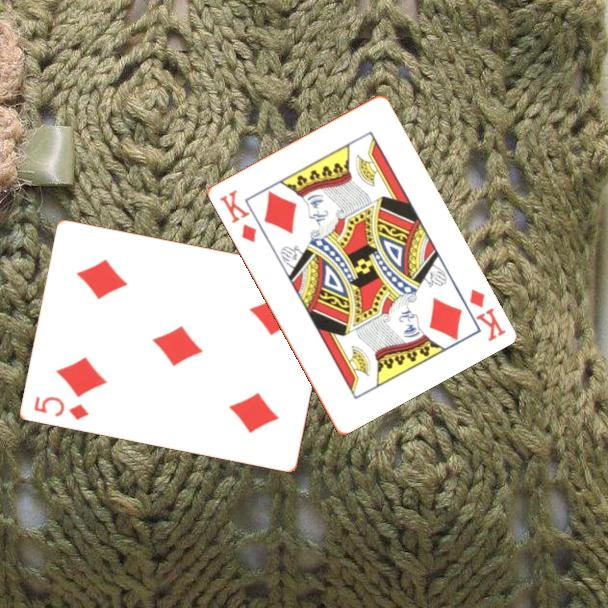d05: (31, 392, 92, 423)
d13: (215, 186, 259, 245), (465, 285, 508, 344)
